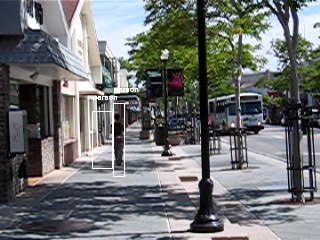person: (109, 112, 128, 168), (108, 112, 127, 168), (110, 112, 129, 168), (109, 111, 128, 167), (109, 113, 128, 169)
target_negative: (255, 93, 320, 151), (160, 186, 212, 234), (86, 117, 148, 151), (312, 46, 316, 118), (305, 151, 308, 232), (279, 103, 281, 186)
